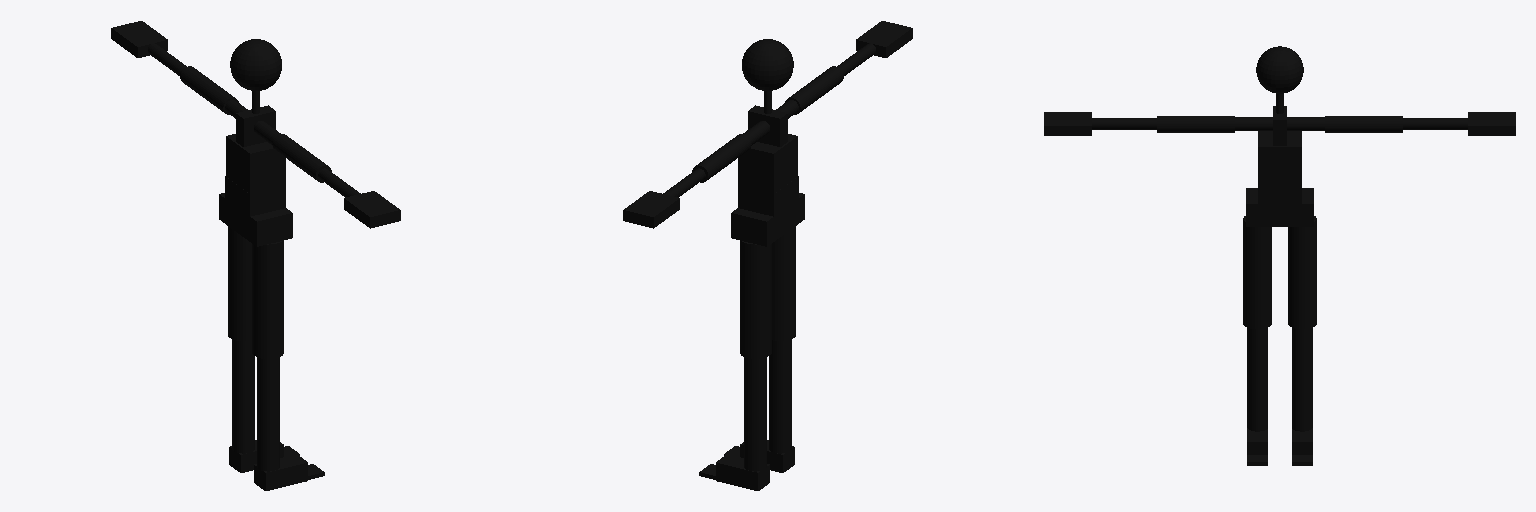
--- What the picture shows (computed from the rendered views, not written in the file) ---
Views: 3 orthographic renders of the robot side by side, from view 1: azimuth 30°, elevation 25°; view 2: azimuth 150°, elevation 25°; view 3: azimuth 270°, elevation 25°.
Robot: XSensStyleModel_template — 51 links, 50 joints (48 revolute, 2 fixed); root link Pelvis; default pose: every joint at zero.
Visible links, largest first — view 1: RightUpperLeg, RightLowerLeg, LeftUpperLeg, LeftLowerLeg, Head, Pelvis, RightHand, T12, L5, LeftHand, RightFoot, L3 (+4 smaller); view 2: LeftUpperLeg, LeftLowerLeg, RightUpperLeg, RightLowerLeg, Head, Pelvis, LeftHand, T12, L5, RightHand, LeftFoot, L3 (+4 smaller); view 3: RightUpperLeg, LeftUpperLeg, RightLowerLeg, LeftLowerLeg, Pelvis, Head, RightUpperArm, LeftUpperArm, T12, RightHand, LeftHand, L5 (+5 smaller).
Link boxes in pixels (x1,y1,x2,y2): RightUpperLeg: (252,241,283,358); RightLowerLeg: (257,357,279,471); LeftUpperLeg: (228,226,251,340); LeftLowerLeg: (232,339,254,453); Head: (230,39,281,90); Pelvis: (219,193,292,246); RightHand: (344,191,400,228); T12: (226,134,285,173); L5: (225,176,285,216); LeftHand: (111,21,167,57); RightFoot: (254,454,307,490); L3: (226,157,285,193); LeftUpperLeg: (740,241,771,358); LeftLowerLeg: (744,357,766,471); RightUpperLeg: (772,226,795,340); RightLowerLeg: (769,339,791,453); Head: (742,39,793,90); Pelvis: (731,193,804,246); LeftHand: (623,191,679,228); T12: (738,134,797,173); L5: (738,176,798,216); RightHand: (856,21,912,57); LeftFoot: (716,454,769,490); L3: (738,157,797,193); RightUpperLeg: (1243,216,1271,328); LeftUpperLeg: (1288,216,1316,328); RightLowerLeg: (1247,328,1267,431); LeftLowerLeg: (1292,328,1312,431); Pelvis: (1246,188,1313,226); Head: (1256,46,1303,93); RightUpperArm: (1157,116,1234,132); LeftUpperArm: (1325,116,1402,132); T12: (1258,131,1301,164); RightHand: (1044,112,1091,135); LeftHand: (1468,112,1515,135); L5: (1258,183,1301,203).
Size in the robot's own frame: 0.3211 by 1.97 by 1.83 metres.
Geometry: primitives only (box / cylinder / sphere), no mesh files.

The robot description file, URDF, robot "XSensStyleModel_template":
<!--URDF MODEL 48 DoFs-->

<robot name="XSensStyleModel_template">

<material name="color">
    <color rgba="0.1 0.1 0.1 1"/>
</material>

<!--To open this model with Gazebo replace the null masses, inertias and dimensions of the 'fake links f1 and f2'-->
    <!--LINKS-->
	<!--Link base (1)-->
	<link name="Pelvis">
        <inertial>
            <mass value="5.816"/>
			<!--COM origin wrt pHipOrigin-->
            <origin xyz="0           0    0.056125" rpy="0 0 0" />
            <inertia ixx="0.04582" iyy="0.017636" izz="0.05243" ixy="0" ixz="0" iyz="0"/>
        </inertial>

        <visual>
			<!--box origin wrt pHipOrigin-->
            <origin xyz="0           0    0.056125" rpy="0 0 0" />
            <geometry>
                <box size="0.15816     0.28838     0.10665"/>
            </geometry>
            <material name="color"/>
        </visual>

        <collision>
			<!--box origin wrt pHipOrigin-->
            <origin xyz="0           0    0.056125" rpy="0 0 0" />
            <geometry>
                <box size="0.15816     0.28838     0.10665"/>
            </geometry>
        </collision>

    </link>
    <!--Chain from (2) to (7)-->
	<link name="L5_f1">
        <inertial>
            <mass value="0"/>
            <origin xyz="0 0 0" rpy="0 0 0" />
            <inertia ixx="0" iyy="0" izz="0" ixy="0" ixz="0" iyz="0"/>
        </inertial>
    </link>
	<link name="L5">
        <inertial>
            <mass value="7.4154"/>
			<!--COM origin wrt jL5S1-->
            <origin xyz="0           0    0.046982" rpy="0 0 0" />
            <inertia ixx="0.027034" iyy="0.020913" izz="0.037036" ixy="0" ixz="0" iyz="0"/>
        </inertial>

        <visual>
			<!--box origin origin wrt jL5S1-->
            <origin xyz="0           0    0.046982" rpy="0 0 0" />
            <geometry>
                <box size="0.15816     0.18687    0.093964"/>
            </geometry>
            <material name="color"/>
        </visual>

        <collision>
			<!--box origin origin wrt jL5S1-->
            <origin xyz="0           0    0.046982" rpy="0 0 0" />
            <geometry>
                <box size="0.15816     0.18687    0.093964"/>
            </geometry>
        </collision>
    </link>
	<link name="L3_f1">
        <inertial>
            <mass value="0"/>
            <origin xyz="0 0 0" rpy="0 0 0" />
            <inertia ixx="0" iyy="0" izz="0" ixy="0" ixz="0" iyz="0"/>
        </inertial>
    </link>
	<link name="L3">
        <inertial>
            <mass value="7.4154"/>
			<!--COM origin wrt jL4L3-->
            <origin xyz="0           0    0.042435" rpy="0 0 0" />
            <inertia ixx="0.026029" iyy="0.019908" izz="0.037036" ixy="0" ixz="0" iyz="0"/>
        </inertial>

        <visual>
			<!--box origin origin wrt jL4L3-->
            <origin xyz="0           0    0.042435" rpy="0 0 0" />
            <geometry>
                <box size="0.15816     0.18687     0.08487"/>
            </geometry>
            <material name="color"/>
        </visual>

        <collision>
			<!--box origin origin wrt jL4L3-->
            <origin xyz="0           0    0.042435" rpy="0 0 0" />
            <geometry>
                <box size="0.15816     0.18687     0.08487"/>
            </geometry>
        </collision>
    </link>
	<link name="T12_f1">
        <inertial>
            <mass value="0"/>
            <origin xyz="0 0 0" rpy="0 0 0" />
            <inertia ixx="0" iyy="0" izz="0" ixy="0" ixz="0" iyz="0"/>
        </inertial>
    </link>
	<link name="T12">
        <inertial>
            <mass value="7.4154"/>
			<!--COM origin wrt jL1T12-->
            <origin xyz="0           0    0.042435" rpy="0 0 0" />
            <inertia ixx="0.026029" iyy="0.019908" izz="0.037036" ixy="0" ixz="0" iyz="0"/>
        </inertial>

        <visual>
			<!--box origin origin wrt jL1T12-->
            <origin xyz="0           0    0.042435" rpy="0 0 0" />
            <geometry>
                <box size="0.15816     0.18687     0.08487"/>
            </geometry>
            <material name="color"/>
        </visual>

        <collision>
			<!--box origin origin wrt jL1T12-->
            <origin xyz="0           0    0.042435" rpy="0 0 0" />
            <geometry>
                <box size="0.15816     0.18687     0.08487"/>
            </geometry>
        </collision>
    </link>
	<link name="T8_f1">
        <inertial>
            <mass value="0"/>
            <origin xyz="0 0 0" rpy="0 0 0" />
            <inertia ixx="0" iyy="0" izz="0" ixy="0" ixz="0" iyz="0"/>
        </inertial>
    </link>
	<link name="T8_f2">
        <inertial>
            <mass value="0"/>
            <origin xyz="0 0 0" rpy="0 0 0" />
            <inertia ixx="0" iyy="0" izz="0" ixy="0" ixz="0" iyz="0"/>
        </inertial>
    </link>
	<link name="T8">
        <inertial>
            <mass value="2.908"/>
			<!--COM origin wrt jT9T8-->
            <origin xyz="0           0    0.059789" rpy="0 0 0" />
            <inertia ixx="0.0042999" iyy="0.0083658" izz="0.0057357" ixy="0" ixz="0" iyz="0"/>
        </inertial>

        <visual>
			<!--box origin wrt jT9T8-->
            <origin xyz="0           0    0.059789" rpy="0 0 0" />
            <geometry>
                <box size="0.14221    0.058696     0.11958"/>
            </geometry>
            <material name="color"/>
        </visual>

        <collision>
			<!--box origin wrt jT9T8-->
            <origin xyz="0           0    0.059789" rpy="0 0 0" />
            <geometry>
                <box size="0.14221    0.058696     0.11958"/>
            </geometry>
        </collision>

    </link>
	<link name="Neck_f1">
        <inertial>
            <mass value="0"/>
            <origin xyz="0 0 0" rpy="0 0 0" />
            <inertia ixx="0" iyy="0" izz="0" ixy="0" ixz="0" iyz="0"/>
        </inertial>
    </link>
	<link name="Neck_f2">
        <inertial>
            <mass value="0"/>
            <origin xyz="0 0 0" rpy="0 0 0" />
            <inertia ixx="0" iyy="0" izz="0" ixy="0" ixz="0" iyz="0"/>
        </inertial>
    </link>
	<link name="Neck">
        <inertial>
            <mass value="0.8724"/>
			<!--COM origin wrt jT1C7-->
            <origin xyz="0           0    0.048835" rpy="0 0 0" />
            <inertia ixx="0.00091024" iyy="0.00091024" izz="0.00043345" ixy="0" ixz="0" iyz="0"/>
        </inertial>

        <visual>
			<!--box origin wrt jT1C7-->
            <origin xyz="0           0    0.048835" rpy="0 0 0" />
            <geometry>
		<cylinder length="0.09767" radius="0.015762"/>
            </geometry>
            <material name="color"/>
        </visual>

        <collision>
			<!--box origin wrt jT1C7-->
            <origin xyz="0           0    0.048835" rpy="0 0 0" />
            <geometry>
                <cylinder length="0.09767" radius="0.015762"/>
            </geometry>
        </collision>
    </link>
	<link name="Head_f1">
        <inertial>
            <mass value="0"/>
            <origin xyz="0 0 0" rpy="0 0 0" />
            <inertia ixx="0" iyy="0" izz="0" ixy="0" ixz="0" iyz="0"/>
        </inertial>
    </link>
	<link name="Head">
        <inertial>
            <mass value="2.6172"/>
			<!--COM origin wrt jC1Head-->
            <origin xyz="0           0    0.099558" rpy="0 0 0" />
            <inertia ixx="0.010376" iyy="0.010376" izz="0.010376" ixy="0" ixz="0" iyz="0"/>
        </inertial>

        <visual>
			<!--boc origin wrt jC1Head-->
            <origin xyz="0           0    0.099558" rpy="0 0 0" />
            <geometry>
                <sphere radius="0.099558"/>
            </geometry>
            <material name="color"/>
        </visual>

        <collision>
			<!--box origin wrt jC1Head-->
            <origin xyz="0           0    0.099558" rpy="0 0 0" />
            <geometry>
                <sphere radius="0.099558"/>
            </geometry>
        </collision>

    </link>
	<!--Chain from (8) to (11)-->
	<link name="RightShoulder">
        <inertial>
            <mass value="2.2537"/>
			<!--COM origin wrt jRightC7Shoulder-->
            <origin xyz="0   -0.078772           0" rpy="0 0 0" />
            <inertia ixx="0.0051014" iyy="0.00087992" izz="0.0051014" ixy="0" ixz="0" iyz="0"/>
        </inertial>

        <visual>
			<!--box origin wrt jRightC7Shoulder. RPY rotated of pi/2.-->
            <origin xyz="0   -0.078772           0" rpy="1.5708 0 0" />
            <geometry>
                <cylinder length="0.15754" radius="0.027944"/>
            </geometry>
            <material name="color"/>
        </visual>

        <collision>
			<!--box origin wrt jRightC7Shoulder. RPY rotated of pi/2.-->
            <origin xyz="0   -0.078772           0" rpy="1.5708 0 0" />
            <geometry>
                <cylinder length="0.15754" radius="0.027944"/>
            </geometry>
        </collision>

    </link>
	<link name="RightUpperArm_f1">
        <inertial>
            <mass value="0"/>
            <origin xyz="0 0 0" rpy="0 0 0" />
            <inertia ixx="0" iyy="0" izz="0" ixy="0" ixz="0" iyz="0"/>
        </inertial>
    </link>
	<link name="RightUpperArm_f2">
        <inertial>
            <mass value="0"/>
            <origin xyz="0 0 0" rpy="0 0 0" />
            <inertia ixx="0" iyy="0" izz="0" ixy="0" ixz="0" iyz="0"/>
        </inertial>
    </link>
    <link name="RightUpperArm">
        <inertial>
            <mass value="2.181"/>
			<!--COM origin wrt jRightShoulder-->
            <origin xyz="0    -0.16437           0" rpy="0 0 0" />
            <inertia ixx="0.020332" iyy="0.0013806" izz="0.020332" ixy="0" ixz="0" iyz="0"/>
        </inertial>

        <visual>
			<!--box origin wrt jRightShoulder. RPY rotated of pi/2.-->
            <origin xyz="0    -0.16437           0" rpy="1.5708 0 0" />
            <geometry>
                <cylinder length="0.32874" radius="0.035581"/>
            </geometry>
            <material name="color"/>
        </visual>

        <collision>
			<!--box origin wrt jRightShoulder. RPY rotated of pi/2.-->
            <origin xyz="0    -0.16437           0" rpy="1.5708 0 0" />
            <geometry>
                <cylinder length="0.32874" radius="0.035581"/>
            </geometry>
        </collision>

    </link>
	<link name="RightForeArm_f1">
        <inertial>
            <mass value="0"/>
            <origin xyz="0 0 0" rpy="0 0 0" />
            <inertia ixx="0" iyy="0" izz="0" ixy="0" ixz="0" iyz="0"/>
        </inertial>
    </link>
	<link name="RightForeArm">
        <inertial>
            <mass value="1.454"/>
			<!--COM origin wrt jRightElbow-->
            <origin xyz="0    -0.13431           0" rpy="0 0 0" />
            <inertia ixx="0.008948" iyy="0.00040906" izz="0.008948" ixy="0" ixz="0" iyz="0"/>
        </inertial>

        <visual>
			<!--box origin wrt jRightElbow. RPY rotated of pi/2.-->
            <origin xyz="0    -0.13431           0" rpy="1.5708 0 0" />
            <geometry>
                <cylinder length="0.26863" radius="0.023721"/>
            </geometry>
            <material name="color"/>
        </visual>

        <collision>
			<!--box origin wrt jRightElbow. RPY rotated of pi/2.-->
            <origin xyz="0    -0.13431           0" rpy="1.5708 0 0" />
            <geometry>
                <cylinder length="0.26863" radius="0.023721"/>
            </geometry>
        </collision>

    </link>
	<link name="RightHand_f1">
        <inertial>
            <mass value="0"/>
            <origin xyz="0 0 0" rpy="0 0 0" />
            <inertia ixx="0" iyy="0" izz="0" ixy="0" ixz="0" iyz="0"/>
        </inertial>
    </link>
	<link name="RightHand">
        <inertial>
            <mass value="0.4362"/>
			<!--COM origin wrt jRightWrist-->
            <origin xyz="0    -0.10039           0" rpy="0 0 0" />
            <inertia ixx="0.0015471" iyy="0.00073303" izz="0.0021165" ixy="0" ixz="0" iyz="0"/>
        </inertial>

        <visual>
			<!--box origin wrt jRightWrist-->
            <origin xyz="0    -0.10039           0" rpy="0 0 0" />
            <geometry>
                <box size="0.13385     0.20077    0.047441"/>
            </geometry>
            <material name="color"/>
        </visual>

        <collision>
			<!--box origin wrt jRightWrist-->
            <origin xyz="0    -0.10039           0" rpy="0 0 0" />
            <geometry>
                <box size="0.13385     0.20077    0.047441"/>
            </geometry>
        </collision>

    </link>
    <link name="RightHandCOM">
        <inertial>
            <mass value="0.00001"/>
            <origin xyz="0 0 0" rpy="0 0 0" />
            <inertia ixx="0" iyy="0" izz="0" ixy="0" ixz="0" iyz="0"/>
        </inertial>
        <visual>
            <!--box origin wrt jRightWrist-->
            <origin xyz="0   0           0" rpy="0 0 0" />
            <geometry>
                <box size="0     0    0"/>
            </geometry>
            <material name="color"/>
        </visual>
    </link>
	<!--Chain from (12) to (15)-->
	<link name="LeftShoulder">
        <inertial>
            <mass value="2.2537"/>
			<!--COM origin wrt jLeftC7Shoulder-->
            <origin xyz="0    0.078772           0" rpy="0 0 0" />
            <inertia ixx="0.0051014" iyy="0.00087992" izz="0.0051014" ixy="0" ixz="0" iyz="0"/>
        </inertial>

        <visual>
			<!--box origin wrt jLeftC7Shoulder. RPY rotated of pi/2.-->
            <origin xyz="0    0.078772           0" rpy="1.5708 0 0" />
            <geometry>
                <cylinder length="0.15754" radius="0.027944"/>
            </geometry>
            <material name="color"/>
        </visual>

        <collision>
			<!--box origin wrt jLeftC7Shoulder. RPY rotated of pi/2.-->
            <origin xyz="0    0.078772           0" rpy="1.5708 0 0" />
            <geometry>
                <cylinder length="0.15754" radius="0.027944"/>
            </geometry>
        </collision>

    </link>
	<link name="LeftUpperArm_f1">
        <inertial>
            <mass value="0"/>
            <origin xyz="0 0 0" rpy="0 0 0" />
            <inertia ixx="0" iyy="0" izz="0" ixy="0" ixz="0" iyz="0"/>
        </inertial>
    </link>
	<link name="LeftUpperArm_f2">
        <inertial>
            <mass value="0"/>
            <origin xyz="0 0 0" rpy="0 0 0" />
            <inertia ixx="0" iyy="0" izz="0" ixy="0" ixz="0" iyz="0"/>
        </inertial>
    </link>
	<link name="LeftUpperArm">
        <inertial>
            <mass value="2.181"/>
			<!--COM origin wrt jLeftShoulder-->
            <origin xyz="0     0.16437           0" rpy="0 0 0" />
            <inertia ixx="0.020332" iyy="0.0013806" izz="0.020332" ixy="0" ixz="0" iyz="0"/>
        </inertial>

        <visual>
			<!--box origin wrt jLeftShoulder. RPY rotated of pi/2.-->
            <origin xyz="0     0.16437           0" rpy="1.5708 0 0" />
            <geometry>
                <cylinder length="0.32874" radius="0.035581"/>
            </geometry>
            <material name="color"/>
        </visual>

        <collision>
			<!--box origin wrt jLeftShoulder. RPY rotated of pi/2.-->
            <origin xyz="0     0.16437           0" rpy="1.5708 0 0" />
            <geometry>
                <cylinder length="0.32874" radius="0.035581"/>
            </geometry>
        </collision>

    </link>
	<link name="LeftForeArm_f1">
        <inertial>
            <mass value="0"/>
            <origin xyz="0 0 0" rpy="0 0 0" />
            <inertia ixx="0" iyy="0" izz="0" ixy="0" ixz="0" iyz="0"/>
        </inertial>
    </link>
	<link name="LeftForeArm">
        <inertial>
            <mass value="1.454"/>
			<!--COM origin wrt jLeftElbow-->
            <origin xyz="0     0.13431           0" rpy="0 0 0" />
            <inertia ixx="0.008948" iyy="0.00040906" izz="0.008948" ixy="0" ixz="0" iyz="0"/>
        </inertial>

        <visual>
			<!--box origin wrt jLeftElbow. RPY rotated of pi/2.-->
            <origin xyz="0     0.13431           0" rpy="1.5708 0 0" />
            <geometry>
                <cylinder length="0.26863" radius="0.023721"/>
            </geometry>
            <material name="color"/>
        </visual>

        <collision>
			<!--box origin wrt jLeftElbow. RPY rotated of pi/2.-->
            <origin xyz="0     0.13431           0" rpy="1.5708 0 0" />
            <geometry>
                <cylinder length="0.26863" radius="0.023721"/>
            </geometry>
        </collision>

    </link>
	<link name="LeftHand_f1">
        <inertial>
            <mass value="0"/>
            <origin xyz="0 0 0" rpy="0 0 0" />
            <inertia ixx="0" iyy="0" izz="0" ixy="0" ixz="0" iyz="0"/>
        </inertial>
    </link>
	<link name="LeftHand">
        <inertial>
            <mass value="0.4362"/>
			<!--COM origin wrt jLeftWrist-->
            <origin xyz="0     0.10039           0" rpy="0 0 0" />
            <inertia ixx="0.0015471" iyy="0.00073303" izz="0.0021165" ixy="0" ixz="0" iyz="0"/>
        </inertial>

        <visual>
			<!--COM origin wrt jLeftWrist-->
            <origin xyz="0     0.10039           0" rpy="0 0 0" />
            <geometry>
                <box size="0.13385     0.20077    0.047441"/>
            </geometry>
            <material name="color"/>
        </visual>

        <collision>
			<!--COM origin wrt jLeftWrist-->
            <origin xyz="0     0.10039           0" rpy="0 0 0" />
            <geometry>
                <box size="0.13385     0.20077    0.047441"/>
            </geometry>
        </collision>

    </link>
    <link name="LeftHandCOM">
        <inertial>
            <mass value="0.00001"/>
            <origin xyz="0 0 0" rpy="0 0 0" />
            <inertia ixx="0" iyy="0" izz="0" ixy="0" ixz="0" iyz="0"/>
        </inertial>
        <visual>
            <!--COM origin wrt jLeftWrist-->
            <origin xyz="0    0           0" rpy="0 0 0" />
            <geometry>
                <box size="0     0    0"/>
            </geometry>
            <material name="color"/>
        </visual>
    </link>
	<!--Chain from (16) to (19)-->
	<link name="RightUpperLeg_f1">
        <inertial>
            <mass value="0"/>
            <origin xyz="0 0 0" rpy="0 0 0" />
            <inertia ixx="0" iyy="0" izz="0" ixy="0" ixz="0" iyz="0"/>
        </inertial>
    </link>
	<link name="RightUpperLeg_f2">
        <inertial>
            <mass value="0"/>
            <origin xyz="0 0 0" rpy="0 0 0" />
            <inertia ixx="0" iyy="0" izz="0" ixy="0" ixz="0" iyz="0"/>
        </inertial>
    </link>
    <link name="RightUpperLeg">
        <inertial>
            <mass value="9.0875"/>
			<!--COM origin wrt jRightHip-->
            <origin xyz="0           0     -0.2408" rpy="0 0 0" />
            <inertia ixx="0.18406" iyy="0.18406" izz="0.016841" ixy="0" ixz="0" iyz="0"/>
        </inertial>

        <visual>
			<!--box origin wrt jRightHip-->
            <origin xyz="0           0     -0.2408" rpy="0 0 0" />
            <geometry>
                <cylinder length="0.48159" radius="0.060881"/>
            </geometry>
            <material name="color"/>
        </visual>

        <collision>
			<!--box origin wrt jRightHip-->
            <origin xyz="0           0     -0.2408" rpy="0 0 0" />
            <geometry>
                <cylinder length="0.48159" radius="0.060881"/>
            </geometry>
        </collision>

    </link>
	<link name="RightLowerLeg_f1">
        <inertial>
            <mass value="0"/>
            <origin xyz="0 0 0" rpy="0 0 0" />
            <inertia ixx="0" iyy="0" izz="0" ixy="0" ixz="0" iyz="0"/>
        </inertial>
    </link>
    <link name="RightLowerLeg">
        <inertial>
            <mass value="2.6536"/>
			<!--COM origin wrt jRightKnee-->
            <origin xyz="0           0    -0.23981" rpy="0 0 0" />
            <inertia ixx="0.052154" iyy="0.052154" izz="0.0025724" ixy="0" ixz="0" iyz="0"/>
        </inertial>

        <visual>
			<!--box origin wrt jRightKnee-->
            <origin xyz="0           0    -0.23981" rpy="0 0 0" />
            <geometry>
                <cylinder length="0.47962" radius="0.044033"/>
            </geometry>
            <material name="color"/>
        </visual>

        <collision>
			<!--box origin wrt jRightKnee-->
            <origin xyz="0           0    -0.23981" rpy="0 0 0" />
            <geometry>
                <cylinder length="0.47962" radius="0.044033"/>
            </geometry>
        </collision>

    </link>
	<link name="RightFoot_f1">
        <inertial>
            <mass value="0"/>
            <origin xyz="0 0 0" rpy="0 0 0" />
            <inertia ixx="0" iyy="0" izz="0" ixy="0" ixz="0" iyz="0"/>
        </inertial>
    </link>
	<link name="RightFoot_f2">
        <inertial>
            <mass value="0"/>
            <origin xyz="0 0 0" rpy="0 0 0" />
            <inertia ixx="0" iyy="0" izz="0" ixy="0" ixz="0" iyz="0"/>
        </inertial>
    </link>
    <link name="RightFoot">
        <inertial>
            <mass value="0.9451"/>
			<!--COM origin wrt jRightAnkle-->
            <origin xyz="0.05699           0   -0.038957" rpy="0 0 0" />
            <inertia ixx="0.0010889" iyy="0.0032762" izz="0.0034089" ixy="0" ixz="0" iyz="0"/>
        </inertial>

        <visual>
			<!--box origin wrt jRightAnkle-->
	    	<origin xyz="0.05699           0   -0.038957" rpy="0 0 0" />
            <geometry>
                <box size="0.18849    0.088065    0.077914"/>
            </geometry>
            <material name="color"/>
        </visual>

        <collision>
			<!--box origin wrt jRightAnkle-->
		    <origin xyz="0.05699           0   -0.038957" rpy="0 0 0" />
	            <geometry>
	                <box size="0.18849    0.088065    0.077914"/>
	            </geometry>
        </collision>

    </link>
    <link name="RightToe">
        <inertial>
            <mass value="0.10905"/>
			<!--COM origin wrt jRightBallFoot-->
            <origin xyz="0.035756           0           0" rpy="0 0 0" />
            <inertia ixx="7.299e-05" iyy="4.8986e-05" izz="0.00011695" ixy="0" ixz="0" iyz="0"/>
        </inertial>

        <visual>
			<!--box origin wrt jRightBallFoot-->
            <origin xyz="0.035756           0           0" rpy="0 0 0" />
            <geometry>
                <box size="0.071513    0.088065    0.016626"/>
            </geometry>
            <material name="color"/>
        </visual>

        <collision>
			<!--box origin wrt jRightBallFoot-->
            <origin xyz="0.035756           0           0" rpy="0 0 0" />
            <geometry>
                <box size="0.071513    0.088065    0.016626"/>
            </geometry>
        </collision>
    </link>
	<!--Chain from (20) to (23)-->
	<link name="LeftUpperLeg_f1">
        <inertial>
            <mass value="0"/>
            <origin xyz="0 0 0" rpy="0 0 0" />
            <inertia ixx="0" iyy="0" izz="0" ixy="0" ixz="0" iyz="0"/>
        </inertial>
    </link>
	<link name="LeftUpperLeg_f2">
        <inertial>
            <mass value="0"/>
            <origin xyz="0 0 0" rpy="0 0 0" />
            <inertia ixx="0" iyy="0" izz="0" ixy="0" ixz="0" iyz="0"/>
        </inertial>
    </link>
    <link name="LeftUpperLeg">
        <inertial>
            <mass value="9.0875"/>
			<!--COM origin wrt jLeftHip-->
            <origin xyz="0           0     -0.2408" rpy="0 0 0" />
            <inertia ixx="0.18406" iyy="0.18406" izz="0.016841" ixy="0" ixz="0" iyz="0"/>
        </inertial>

        <visual>
			<!--box origin wrt jLeftHip-->
            <origin xyz="0           0     -0.2408" rpy="0 0 0" />
            <geometry>
                <cylinder length="0.48159" radius="0.060881"/>
            </geometry>
            <material name="color"/>
        </visual>

        <collision>
			<!--box origin wrt jLeftHip-->
            <origin xyz="0           0     -0.2408" rpy="0 0 0" />
            <geometry>
                <cylinder length="0.48159" radius="0.060881"/>
            </geometry>
        </collision>

    </link>
	<link name="LeftLowerLeg_f1">
        <inertial>
            <mass value="0"/>
            <origin xyz="0 0 0" rpy="0 0 0" />
            <inertia ixx="0" iyy="0" izz="0" ixy="0" ixz="0" iyz="0"/>
        </inertial>
    </link>
	<link name="LeftLowerLeg">
        <inertial>
            <mass value="2.6536"/>
			<!--COM origin wrt jLeftKnee-->
            <origin xyz="0           0    -0.23981" rpy="0 0 0" />
            <inertia ixx="0.052154" iyy="0.052154" izz="0.0025724" ixy="0" ixz="0" iyz="0"/>
        </inertial>

        <visual>
			<!--box origin wrt jLeftKnee-->
            <origin xyz="0           0    -0.23981" rpy="0 0 0" />
            <geometry>
		<cylinder length="0.47962" radius="0.044033"/>
            </geometry>
            <material name="color"/>
        </visual>

        <collision>
			<!--box origin wrt jLeftKnee-->
            <origin xyz="0           0    -0.23981" rpy="0 0 0" />
            <geometry>
		<cylinder length="0.47962" radius="0.044033"/>
            </geometry>
        </collision>

    </link>
	<link name="LeftFoot_f1">
        <inertial>
            <mass value="0"/>
            <origin xyz="0 0 0" rpy="0 0 0" />
            <inertia ixx="0" iyy="0" izz="0" ixy="0" ixz="0" iyz="0"/>
        </inertial>
    </link>
	<link name="LeftFoot_f2">
        <inertial>
            <mass value="0"/>
            <origin xyz="0 0 0" rpy="0 0 0" />
            <inertia ixx="0" iyy="0" izz="0" ixy="0" ixz="0" iyz="0"/>
        </inertial>
    </link>
    <link name="LeftFoot">
        <inertial>
            <mass value="0.9451"/>
			<!--COM origin wrt jLeftAnkle-->
            <origin xyz="0.05699           0   -0.038957" rpy="0 0 0" />
            <inertia ixx="0.0010889" iyy="0.0032762" izz="0.0034089" ixy="0" ixz="0" iyz="0"/>
        </inertial>

        <visual>
			<!--box origin wrt jLeftAnkle-->
	   	 	<origin xyz="0.05699           0   -0.038957" rpy="0 0 0" />
            <geometry>
                <box size="0.18849    0.088065    0.077914"/>
            </geometry>
            <material name="color"/>
        </visual>

        <collision>
			<!--box origin wrt jLeftAnkle-->
		    <origin xyz="0.05699           0   -0.038957" rpy="0 0 0" />
	            <geometry>
	                <box size="0.18849    0.088065    0.077914"/>
	            </geometry>
        </collision>

    </link>
	<link name="LeftToe">
        <inertial>
            <mass value="0.10905"/>
			<!--COM origin wrt jLeftBallFoot-->
            <origin xyz="0.035756           0           0" rpy="0 0 0" />
            <inertia ixx="7.299e-05" iyy="4.8986e-05" izz="0.00011695" ixy="0" ixz="0" iyz="0"/>
        </inertial>

        <visual>
			<!--box origin wrt jLeftBallFoot-->
            <origin xyz="0.035756           0           0" rpy="0 0 0" />
            <geometry>
                <box size="0.071513    0.088065    0.016626"/>
            </geometry>
            <material name="color"/>
        </visual>

        <collision>
			<!--box origin wrt jLeftBallFoot-->
            <origin xyz="0.035756           0           0" rpy="0 0 0" />
            <geometry>
                <box size="0.071513    0.088065    0.016626"/>
            </geometry>
        </collision>
    </link>


	<!--JOINTS-->
	<!--Chain from (2) to (7)-->
	<joint name="jL5S1_rotx" type="revolute">
        <origin xyz="-0.000571           0     0.10945" rpy="0 0 0"/>
        <parent link="Pelvis"/>
        <child link="L5_f1"/>
        <dynamics damping="0.1" friction="0.0"/>
        <limit effort="30" velocity="1.0" lower="-10.0" upper="10.0" />
        <axis xyz="1 0 0" />
    </joint>
	<joint name="jL5S1_roty" type="revolute">
        <origin xyz="0 0 0" rpy="0 0 0"/>
        <parent link="L5_f1"/>
        <child link="L5"/>
        <dynamics damping="0.1" friction="0.0"/>
        <limit effort="30" velocity="1.0" lower="-10.0" upper="10.0" />
        <axis xyz="0 1 0" />
    </joint>
	<joint name="jL4L3_rotx" type="revolute">
        <origin xyz="0.001038           0    0.093964" rpy="0 0 0"/>
        <parent link="L5"/>
        <child link="L3_f1"/>
        <dynamics damping="0.1" friction="0.0"/>
        <limit effort="30" velocity="1.0" lower="-10.0" upper="10.0" />
        <axis xyz="1 0 0" />
    </joint>
	<joint name="jL4L3_roty" type="revolute">
        <origin xyz="0 0 0" rpy="0 0 0"/>
        <parent link="L3_f1"/>
        <child link="L3"/>
        <dynamics damping="0.1" friction="0.0"/>
        <limit effort="30" velocity="1.0" lower="-10.0" upper="10.0" />
        <axis xyz="0 1 0" />
    </joint>
	<joint name="jL1T12_rotx" type="revolute">
        <origin xyz="0           0     0.08487" rpy="0 0 0"/>
        <parent link="L3"/>
        <child link="T12_f1"/>
        <dynamics damping="0.1" friction="0.0"/>
        <limit effort="30" velocity="1.0" lower="-10.0" upper="10.0" />
        <axis xyz="1 0 0" />
    </joint>
	<joint name="jL1T12_roty" type="revolute">
        <origin xyz="0 0 0" rpy="0 0 0"/>
        <parent link="T12_f1"/>
        <child link="T12"/>
        <dynamics damping="0.1" friction="0.0"/>
        <limit effort="30" velocity="1.0" lower="-10.0" upper="10.0" />
        <axis xyz="0 1 0" />
    </joint>
	<joint name="jT9T8_rotx" type="revolute">
        <origin xyz="0           0     0.08487" rpy="0 0 0"/>
        <parent link="T12"/>
        <child link="T8_f1"/>
        <dynamics damping="0.1" friction="0.0"/>
        <limit effort="30" velocity="1.0" lower="-10.0" upper="10.0" />
        <axis xyz="1 0 0" />
    </joint>
	<joint name="jT9T8_roty" type="revolute">
        <origin xyz="0 0 0" rpy="0 0 0"/>
        <parent link="T8_f1"/>
        <child link="T8_f2"/>
        <dynamics damping="0.1" friction="0.0"/>
        <limit effort="30" velocity="1.0" lower="-10.0" upper="10.0" />
        <axis xyz="0 1 0" />
    </joint>
    <joint name="jT9T8_rotz" type="revolute">
        <origin xyz="0 0 0" rpy="0 0 0"/>
        <parent link="T8_f2"/>
        <child link="T8"/>
        <dynamics damping="0.1" friction="0.0"/>
        <limit effort="30" velocity="1.0" lower="-10.0" upper="10.0" />
        <axis xyz="0 0 1" />
    </joint>
	<joint name="jT1C7_rotx" type="revolute">
        <origin xyz="0           0     0.11958" rpy="0 0 0"/>
        <parent link="T8"/>
        <child link="Neck_f1"/>
        <dynamics damping="0.1" friction="0.0"/>
        <limit effort="30" velocity="1.0" lower="-10.0" upper="10.0" />
        <axis xyz="1 0 0" />
    </joint>
	<joint name="jT1C7_roty" type="revolute">
        <origin xyz="0 0 0" rpy="0 0 0"/>
        <parent link="Neck_f1"/>
        <child link="Neck_f2"/>
        <dynamics damping="0.1" friction="0.0"/>
        <limit effort="30" velocity="1.0" lower="-10.0" upper="10.0" />
        <axis xyz="0 1 0" />
    </joint>
    <joint name="jT1C7_rotz" type="revolute">
        <origin xyz="0 0 0" rpy="0 0 0"/>
        <parent link="Neck_f2"/>
        <child link="Neck"/>
        <dynamics damping="0.1" friction="0.0"/>
        <limit effort="30" velocity="1.0" lower="-10.0" upper="10.0" />
        <axis xyz="0 0 1" />
    </joint>
	<joint name="jC1Head_rotx" type="revolute">
        <origin xyz="0.000993           0     0.09767" rpy="0 0 0"/>
        <parent link="Neck"/>
        <child link="Head_f1"/>
        <dynamics damping="0.1" friction="0.0"/>
        <limit effort="30" velocity="1.0" lower="-10.0" upper="10.0" />
        <axis xyz="1 0 0" />
    </joint>
	<joint name="jC1Head_roty" type="revolute">
        <origin xyz="0 0 0" rpy="0 0 0"/>
        <parent link="Head_f1"/>
        <child link="Head"/>
        <dynamics damping="0.1" friction="0.0"/>
        <limit effort="30" velocity="1.0" lower="-10.0" upper="10.0" />
        <axis xyz="0 1 0" />
    </joint>
	<!--Chain from (8) to (11)-->
	<joint name="jRightC7Shoulder_rotx" type="revolute">
        <origin xyz="0   -0.029348    0.067373" rpy="0 0 0"/>
        <parent link="T8"/>
        <child link="RightShoulder"/>
        <dynamics damping="0.1" friction="0.0"/>
        <limit effort="30" velocity="1.0" lower="-10.0" upper="10.0" />
        <axis xyz="1 0 0" />
    </joint>
	<joint name="jRightShoulder_rotx" type="revolute">
        <origin xyz="0    -0.15754           0" rpy="0 0 0"/>
        <parent link="RightShoulder"/>
        <child link="RightUpperArm_f1"/>
        <dynamics damping="0.1" friction="0.0"/>
        <limit effort="30" velocity="1.0" lower="-10.0" upper="10.0" />
        <axis xyz="1 0 0" />
    </joint>
	<joint name="jRightShoulder_roty" type="revolute">
        <origin xyz="0 0 0" rpy="0 0 0"/>
        <parent link="RightUpperArm_f1"/>
        <child link="RightUpperArm_f2"/>
        <dynamics damping="0.1" friction="0.0"/>
        <limit effort="30" velocity="1.0" lower="-10.0" upper="10.0" />
        <axis xyz="0 1 0" />
    </joint>
    <joint name="jRightShoulder_rotz" type="revolute">
        <origin xyz="0 0 0" rpy="0 0 0"/>
        <parent link="RightUpperArm_f2"/>
        <child link="RightUpperArm"/>
        <dynamics damping="0.1" friction="0.0"/>
        <limit effort="30" velocity="1.0" lower="-10.0" upper="10.0" />
        <axis xyz="0 0 1" />
    </joint>
	<joint name="jRightElbow_roty" type="revolute">
        <origin xyz="0    -0.32874           0" rpy="0 0 0"/>
        <parent link="RightUpperArm"/>
        <child link="RightForeArm_f1"/>
        <dynamics damping="0.1" friction="0.0"/>
        <limit effort="30" velocity="1.0" lower="-10.0" upper="10.0" />
        <axis xyz="0 1 0" />
    </joint>
	<joint name="jRightElbow_rotz" type="revolute">
        <origin xyz="0 0 0" rpy="0 0 0"/>
        <parent link="RightForeArm_f1"/>
        <child link="RightForeArm"/>
        <dynamics damping="0.1" friction="0.0"/>
        <limit effort="30" velocity="1.0" lower="-10.0" upper="10.0" />
        <axis xyz="0 0 1" />
    </joint>
	<joint name="jRightWrist_rotx" type="revolute">
        <origin xyz="-1.2e-05    -0.26863           0" rpy="0 0 0"/>
        <parent link="RightForeArm"/>
        <child link="RightHand_f1"/>
        <dynamics damping="0.1" friction="0.0"/>
        <limit effort="30" velocity="1.0" lower="-10.0" upper="10.0" />
        <axis xyz="1 0 0" />
    </joint>
	<joint name="jRightWrist_rotz" type="revolute">
        <origin xyz="0 0 0" rpy="0 0 0"/>
        <parent link="RightHand_f1"/>
        <child link="RightHand"/>
        <dynamics damping="0.1" friction="0.0"/>
        <limit effort="30" velocity="1.0" lower="-10.0" upper="10.0" />
        <axis xyz="0 0 1" />
    </joint>
    <joint name="jRightHandCOM" type="fixed">
        <origin xyz="0 -0.096206 0" rpy="0 0 0"/>
        <parent link="RightHand"/>
        <child link="RightHandCOM"/>
        <axis xyz="0 0 0" />
    </joint>
	<!--Chain from (12) to (15)-->
	<joint name="jLeftC7Shoulder_rotx" type="revolute">
        <origin xyz="0    0.029348    0.067373" rpy="0 0 0"/>
        <parent link="T8"/>
        <child link="LeftShoulder"/>
        <dynamics damping="0.1" friction="0.0"/>
        <limit effort="30" velocity="1.0" lower="-10.0" upper="10.0" />
        <axis xyz="1 0 0" />
    </joint>
	<joint name="jLeftShoulder_rotx" type="revolute">
        <origin xyz="0     0.15754           0" rpy="0 0 0"/>
        <parent link="LeftShoulder"/>
        <child link="LeftUpperArm_f1"/>
        <dynamics damping="0.1" friction="0.0"/>
        <limit effort="30" velocity="1.0" lower="-10.0" upper="10.0" />
        <axis xyz="1 0 0" />
    </joint>
	<joint name="jLeftShoulder_roty" type="revolute">
        <origin xyz="0 0 0" rpy="0 0 0"/>
        <parent link="LeftUpperArm_f1"/>
        <child link="LeftUpperArm_f2"/>
        <dynamics damping="0.1" friction="0.0"/>
        <limit effort="30" velocity="1.0" lower="-10.0" upper="10.0" />
        <axis xyz="0 1 0" />
    </joint>
    <joint name="jLeftShoulder_rotz" type="revolute">
        <origin xyz="0 0 0" rpy="0 0 0"/>
        <parent link="LeftUpperArm_f2"/>
        <child link="LeftUpperArm"/>
        <dynamics damping="0.1" friction="0.0"/>
        <limit effort="30" velocity="1.0" lower="-10.0" upper="10.0" />
        <axis xyz="0 0 1" />
    </joint>
    <joint name="jLeftElbow_roty" type="revolute">
        <origin xyz="0     0.32874           0" rpy="0 0 0"/>
        <parent link="LeftUpperArm"/>
        <child link="LeftForeArm_f1"/>
        <dynamics damping="0.1" friction="0.0"/>
        <limit effort="30" velocity="1.0" lower="-10.0" upper="10.0" />
        <axis xyz="0 1 0" />
    </joint>
    <joint name="jLeftElbow_rotz" type="revolute">
        <origin xyz="0 0 0" rpy="0 0 0"/>
        <parent link="LeftForeArm_f1"/>
        <child link="LeftForeArm"/>
        <dynamics damping="0.1" friction="0.0"/>
        <limit effort="30" velocity="1.0" lower="-10.0" upper="10.0" />
        <axis xyz="0 0 1" />
    </joint>
	<joint name="jLeftWrist_rotx" type="revolute">
        <origin xyz="-1.2e-05     0.26863           0" rpy="0 0 0"/>
        <parent link="LeftForeArm"/>
        <child link="LeftHand_f1"/>
        <dynamics damping="0.1" friction="0.0"/>
        <limit effort="30" velocity="1.0" lower="-10.0" upper="10.0" />
        <axis xyz="1 0 0" />
    </joint>
	<joint name="jLeftWrist_rotz" type="revolute">
        <origin xyz="0 0 0" rpy="0 0 0"/>
        <parent link="LeftHand_f1"/>
        <child link="LeftHand"/>
        <dynamics damping="0.1" friction="0.0"/>
        <limit effort="30" velocity="1.0" lower="-10.0" upper="10.0" />
        <axis xyz="0 0 1" />
    </joint>
    <joint name="jLeftHandCOM" type="fixed">
        <origin xyz="0 0.096206 0" rpy="0 0 0"/>
        <parent link="LeftHand"/>
        <child link="LeftHandCOM"/>
        <axis xyz="0 0 0" />
    </joint>
	<!--Chain from (16) to (19)-->
	<joint name="jRightHip_rotx" type="revolute">
        <origin xyz="0.000286   -0.093433    0.002799" rpy="0 0 0"/>
        <parent link="Pelvis"/>
        <child link="RightUpperLeg_f1"/>
        <dynamics damping="0.1" friction="0.0"/>
        <limit effort="30" velocity="1.0" lower="-10.0" upper="10.0" />
        <axis xyz="1 0 0" />
    </joint>
	<joint name="jRightHip_roty" type="revolute">
        <origin xyz="0 0 0" rpy="0 0 0"/>
        <parent link="RightUpperLeg_f1"/>
        <child link="RightUpperLeg_f2"/>
        <dynamics damping="0.1" friction="0.0"/>
        <limit effort="30" velocity="1.0" lower="-10.0" upper="10.0" />
        <axis xyz="0 1 0" />
    </joint>
    <joint name="jRightHip_rotz" type="revolute">
        <origin xyz="0 0 0" rpy="0 0 0"/>
        <parent link="RightUpperLeg_f2"/>
        <child link="RightUpperLeg"/>
        <dynamics damping="0.1" friction="0.0"/>
        <limit effort="30" velocity="1.0" lower="-10.0" upper="10.0" />
        <axis xyz="0 0 1" />
    </joint>
	<joint name="jRightKnee_roty" type="revolute">
        <origin xyz="-6.6e-05           0    -0.48159" rpy="0 0 0"/>
        <parent link="RightUpperLeg"/>
        <child link="RightLowerLeg_f1"/>
        <dynamics damping="0.1" friction="0.0"/>
        <limit effort="30" velocity="1.0" lower="-10.0" upper="10.0" />
        <axis xyz="0 1 0" />
    </joint>
	<joint name="jRightKnee_rotz" type="revolute">
        <origin xyz="0 0 0" rpy="0 0 0"/>
        <parent link="RightLowerLeg_f1"/>
        <child link="RightLowerLeg"/>
        <dynamics damping="0.1" friction="0.0"/>
        <limit effort="30" velocity="1.0" lower="-10.0" upper="10.0" />
        <axis xyz="0 0 1" />
    </joint>
	<joint name="jRightAnkle_rotx" type="revolute">
        <origin xyz="1e-06           0    -0.47962" rpy="0 0 0"/>
        <parent link="RightLowerLeg"/>
        <child link="RightFoot_f1"/>
        <dynamics damping="0.1" friction="0.0"/>
        <limit effort="30" velocity="1.0" lower="-10.0" upper="10.0" />
        <axis xyz="1 0 0" />
    </joint>
	<joint name="jRightAnkle_roty" type="revolute">
        <origin xyz="0 0 0" rpy="0 0 0"/>
        <parent link="RightFoot_f1"/>
        <child link="RightFoot_f2"/>
        <dynamics damping="0.1" friction="0.0"/>
        <limit effort="30" velocity="1.0" lower="-10.0" upper="10.0" />
        <axis xyz="0 1 0" />
    </joint>
    <joint name="jRightAnkle_rotz" type="revolute">
        <origin xyz="0 0 0" rpy="0 0 0"/>
        <parent link="RightFoot_f2"/>
        <child link="RightFoot"/>
        <dynamics damping="0.1" friction="0.0"/>
        <limit effort="30" velocity="1.0" lower="-10.0" upper="10.0" />
        <axis xyz="0 0 1" />
    </joint>
	<joint name="jRightBallFoot_roty" type="revolute">
        <origin xyz="0.15123           0   -0.065325" rpy="0 0 0"/>
        <parent link="RightFoot"/>
        <child link="RightToe"/>
        <dynamics damping="0.1" friction="0.0"/>
        <limit effort="30" velocity="1.0" lower="-10.0" upper="10.0" />
        <axis xyz="0 1 0" />
    </joint>
	<!--Chain from (20) to (23)-->
	<joint name="jLeftHip_rotx" type="revolute">
        <origin xyz="0.000286    0.093433    0.002799" rpy="0 0 0"/>
        <parent link="Pelvis"/>
        <child link="LeftUpperLeg_f1"/>
        <dynamics damping="0.1" friction="0.0"/>
        <limit effort="30" velocity="1.0" lower="-10.0" upper="10.0" />
        <axis xyz="1 0 0" />
    </joint>
	<joint name="jLeftHip_roty" type="revolute">
        <origin xyz="0 0 0" rpy="0 0 0"/>
        <parent link="LeftUpperLeg_f1"/>
        <child link="LeftUpperLeg_f2"/>
        <dynamics damping="0.1" friction="0.0"/>
        <limit effort="30" velocity="1.0" lower="-10.0" upper="10.0" />
        <axis xyz="0 1 0" />
    </joint>
    <joint name="jLeftHip_rotz" type="revolute">
        <origin xyz="0 0 0" rpy="0 0 0"/>
        <parent link="LeftUpperLeg_f2"/>
        <child link="LeftUpperLeg"/>
        <dynamics damping="0.1" friction="0.0"/>
        <limit effort="30" velocity="1.0" lower="-10.0" upper="10.0" />
        <axis xyz="0 0 1" />
    </joint>
	<joint name="jLeftKnee_roty" type="revolute">
        <origin xyz="-6.6e-05           0    -0.48159" rpy="0 0 0"/>
        <parent link="LeftUpperLeg"/>
        <child link="LeftLowerLeg_f1"/>
        <dynamics damping="0.1" friction="0.0"/>
        <limit effort="30" velocity="1.0" lower="-10.0" upper="10.0" />
        <axis xyz="0 1 0" />
    </joint>
    <joint name="jLeftKnee_rotz" type="revolute">
        <origin xyz="0 0 0" rpy="0 0 0"/>
        <parent link="LeftLowerLeg_f1"/>
        <child link="LeftLowerLeg"/>
        <dynamics damping="0.1" friction="0.0"/>
        <limit effort="30" velocity="1.0" lower="-10.0" upper="10.0" />
        <axis xyz="0 0 1" />
    </joint>
	<joint name="jLeftAnkle_rotx" type="revolute">
        <origin xyz="1e-06           0    -0.47962" rpy="0 0 0"/>
        <parent link="LeftLowerLeg"/>
        <child link="LeftFoot_f1"/>
        <dynamics damping="0.1" friction="0.0"/>
        <limit effort="30" velocity="1.0" lower="-10.0" upper="10.0" />
        <axis xyz="1 0 0" />
    </joint>
	<joint name="jLeftAnkle_roty" type="revolute">
        <origin xyz="0 0 0" rpy="0 0 0"/>
        <parent link="LeftFoot_f1"/>
        <child link="LeftFoot_f2"/>
        <dynamics damping="0.1" friction="0.0"/>
        <limit effort="30" velocity="1.0" lower="-10.0" upper="10.0" />
        <axis xyz="0 1 0" />
    </joint>
    <joint name="jLeftAnkle_rotz" type="revolute">
        <origin xyz="0 0 0" rpy="0 0 0"/>
        <parent link="LeftFoot_f2"/>
        <child link="LeftFoot"/>
        <dynamics damping="0.1" friction="0.0"/>
        <limit effort="30" velocity="1.0" lower="-10.0" upper="10.0" />
        <axis xyz="0 0 1" />
    </joint>
	<joint name="jLeftBallFoot_roty" type="revolute">
        <origin xyz="0.15123           0   -0.065325" rpy="0 0 0"/>
        <parent link="LeftFoot"/>
        <child link="LeftToe"/>
        <dynamics damping="0.1" friction="0.0"/>
        <limit effort="30" velocity="1.0" lower="-10.0" upper="10.0" />
        <axis xyz="0 1 0" />
    </joint>

	<!-- Sensor  1-->
<sensor name="Pelvis_gyro" type="gyroscope">
<parent link="Pelvis"/>
<origin xyz="-0.064953  7.3342e-05     0.11133" rpy="0.18093      1.2598     -2.9441"/>
</sensor>
<sensor name="Pelvis_accelerometer" type="accelerometer">
<parent link="Pelvis"/>
<origin xyz="-0.064953  7.3342e-05     0.11133" rpy="0.18093      1.2598     -2.9441"/>
</sensor>
<!-- Sensor  2-->
<sensor name="T8_gyro" type="gyroscope">
<parent link="T8"/>
<origin xyz="0.13274 -3.5522e-05    0.072976" rpy="0.10969       1.201    -0.13773"/>
</sensor>
<sensor name="T8_accelerometer" type="accelerometer">
<parent link="T8"/>
<origin xyz="0.13274 -3.5522e-05    0.072976" rpy="0.10969       1.201    -0.13773"/>
</sensor>
<!-- Sensor  3-->
<sensor name="Head_gyro" type="gyroscope">
<parent link="Head"/>
<origin xyz="-0.078154  9.5957e-05    0.085802" rpy="1.9773     -0.1601     -1.7016"/>
</sensor>
<sensor name="Head_accelerometer" type="accelerometer">
<parent link="Head"/>
<origin xyz="-0.078154  9.5957e-05    0.085802" rpy="1.9773     -0.1601     -1.7016"/>
</sensor>
<!-- Sensor  4-->
<sensor name="RightShoulder_gyro" type="gyroscope">
<parent link="RightShoulder"/>
<origin xyz="-0.022346   -0.055932   -0.067036" rpy="1.2429    -0.30476     -1.4616"/>
</sensor>
<sensor name="RightShoulder_accelerometer" type="accelerometer">
<parent link="RightShoulder"/>
<origin xyz="-0.022346   -0.055932   -0.067036" rpy="1.2429    -0.30476     -1.4616"/>
</sensor>
<!-- Sensor  5-->
<sensor name="RightUpperArm_gyro" type="gyroscope">
<parent link="RightUpperArm"/>
<origin xyz="-0.021873    -0.10943    0.021884" rpy="0.02004    -0.11963     -1.6812"/>
</sensor>
<sensor name="RightUpperArm_accelerometer" type="accelerometer">
<parent link="RightUpperArm"/>
<origin xyz="-0.021873    -0.10943    0.021884" rpy="0.02004    -0.11963     -1.6812"/>
</sensor>
<!-- Sensor  6-->
<sensor name="RightForeArm_gyro" type="gyroscope">
<parent link="RightForeArm"/>
<origin xyz="0.0021274    -0.21903    0.021991" rpy="-0.61456   -0.082799     -1.3499"/>
</sensor>
<sensor name="RightForeArm_accelerometer" type="accelerometer">
<parent link="RightForeArm"/>
<origin xyz="0.0021274    -0.21903    0.021991" rpy="-0.61456   -0.082799     -1.3499"/>
</sensor>
<!-- Sensor  7-->
<sensor name="RightHand_gyro" type="gyroscope">
<parent link="RightHand"/>
<origin xyz="7.0533e-05   -0.060282    0.021961" rpy="-0.469   -0.050132     -1.5645"/>
</sensor>
<sensor name="RightHand_accelerometer" type="accelerometer">
<parent link="RightHand"/>
<origin xyz="7.0533e-05   -0.060282    0.021961" rpy="-0.469   -0.050132     -1.5645"/>
</sensor>
<!-- Sensor  8-->
<sensor name="LeftShoulder_gyro" type="gyroscope">
<parent link="LeftShoulder"/>
<origin xyz="-0.022432    0.055917   -0.067099" rpy="-1.0424     -0.2698       1.277"/>
</sensor>
<sensor name="LeftShoulder_accelerometer" type="accelerometer">
<parent link="LeftShoulder"/>
<origin xyz="-0.022432    0.055917   -0.067099" rpy="-1.0424     -0.2698       1.277"/>
</sensor>
<!-- Sensor  9-->
<sensor name="LeftUpperArm_gyro" type="gyroscope">
<parent link="LeftUpperArm"/>
<origin xyz="-0.021914     0.10939    0.021888" rpy="-0.12427   -0.032078      1.5431"/>
</sensor>
<sensor name="LeftUpperArm_accelerometer" type="accelerometer">
<parent link="LeftUpperArm"/>
<origin xyz="-0.021914     0.10939    0.021888" rpy="-0.12427   -0.032078      1.5431"/>
</sensor>
<!-- Sensor  10-->
<sensor name="LeftForeArm_gyro" type="gyroscope">
<parent link="LeftForeArm"/>
<origin xyz="0.0019854      0.2191    0.021912" rpy="0.45205   -0.015076       1.341"/>
</sensor>
<sensor name="LeftForeArm_accelerometer" type="accelerometer">
<parent link="LeftForeArm"/>
<origin xyz="0.0019854      0.2191    0.021912" rpy="0.45205   -0.015076       1.341"/>
</sensor>
<!-- Sensor  11-->
<sensor name="LeftHand_gyro" type="gyroscope">
<parent link="LeftHand"/>
<origin xyz="-2.7619e-05    0.060232     0.02196" rpy="0.24148   0.0024362      1.5452"/>
</sensor>
<sensor name="LeftHand_accelerometer" type="accelerometer">
<parent link="LeftHand"/>
<origin xyz="-2.7619e-05    0.060232     0.02196" rpy="0.24148   0.0024362      1.5452"/>
</sensor>
<!-- Sensor  12-->
<sensor name="RightUpperLeg_gyro" type="gyroscope">
<parent link="RightUpperLeg"/>
<origin xyz="0.01394   -0.049214     -0.2906" rpy="3.07      1.4018      1.5033"/>
</sensor>
<sensor name="RightUpperLeg_accelerometer" type="accelerometer">
<parent link="RightUpperLeg"/>
<origin xyz="0.01394   -0.049214     -0.2906" rpy="3.07      1.4018      1.5033"/>
</sensor>
<!-- Sensor  13-->
<sensor name="RightLowerLeg_gyro" type="gyroscope">
<parent link="RightLowerLeg"/>
<origin xyz="0.036327   0.0082782    -0.15582" rpy="-3.1219      1.4366     -2.7423"/>
</sensor>
<sensor name="RightLowerLeg_accelerometer" type="accelerometer">
<parent link="RightLowerLeg"/>
<origin xyz="0.036327   0.0082782    -0.15582" rpy="-3.1219      1.4366     -2.7423"/>
</sensor>
<!-- Sensor  14-->
<sensor name="RightFoot_gyro" type="gyroscope">
<parent link="RightFoot"/>
<origin xyz="0.087436   0.0013342   -0.012582" rpy="0.23261     0.45881    -0.16253"/>
</sensor>
<sensor name="RightFoot_accelerometer" type="accelerometer">
<parent link="RightFoot"/>
<origin xyz="0.087436   0.0013342   -0.012582" rpy="0.23261     0.45881    -0.16253"/>
</sensor>
<!-- Sensor  15-->
<sensor name="LeftUpperLeg_gyro" type="gyroscope">
<parent link="LeftUpperLeg"/>
<origin xyz="0.013998    0.049135    -0.29079" rpy="-2.8263      1.4339     -1.3177"/>
</sensor>
<sensor name="LeftUpperLeg_accelerometer" type="accelerometer">
<parent link="LeftUpperLeg"/>
<origin xyz="0.013998    0.049135    -0.29079" rpy="-2.8263      1.4339     -1.3177"/>
</sensor>
<!-- Sensor  16-->
<sensor name="LeftLowerLeg_gyro" type="gyroscope">
<parent link="LeftLowerLeg"/>
<origin xyz="0.036205  -0.0084208    -0.15595" rpy="2.5606      1.4033      2.3269"/>
</sensor>
<sensor name="LeftLowerLeg_accelerometer" type="accelerometer">
<parent link="LeftLowerLeg"/>
<origin xyz="0.036205  -0.0084208    -0.15595" rpy="2.5606      1.4033      2.3269"/>
</sensor>
<!-- Sensor  17-->
<sensor name="LeftFoot_gyro" type="gyroscope">
<parent link="LeftFoot"/>
<origin xyz="0.087269  -0.0015436   -0.012394" rpy="0.0012317     0.58393     0.19088"/>
</sensor>
<sensor name="LeftFoot_accelerometer" type="accelerometer">
<parent link="LeftFoot"/>
<origin xyz="0.087269  -0.0015436   -0.012394" rpy="0.0012317     0.58393     0.19088"/>
</sensor>


</robot>
